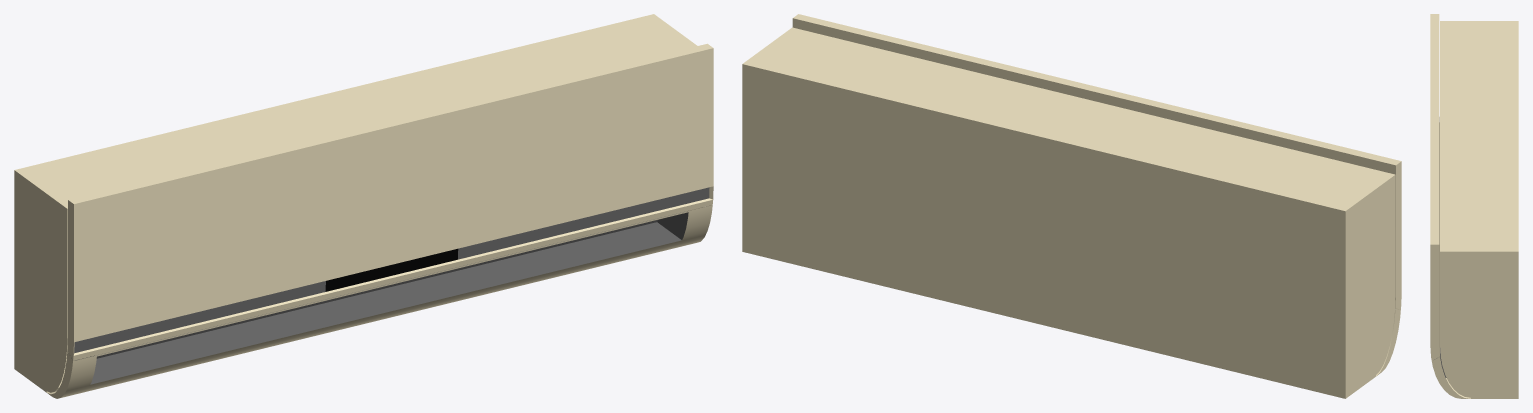
File: air conditioner.fbx
3 views of the same model, side by side, from view 1: azimuth 30°, elevation 25°; view 2: azimuth 150°, elevation 25°; view 3: azimuth 270°, elevation 25° (orthographic). The views are drawn at different scales.
Visible parts, largest first — view 1: AC; view 2: AC; view 3: AC.
Part boxes in pixels (box(x1,y1,x2,y2)): AC: box(14, 14, 713, 398); AC: box(742, 14, 1401, 398); AC: box(1430, 14, 1518, 398).
Bounding box in the file's own units: 1.12 × 0.3475 × 0.18.
